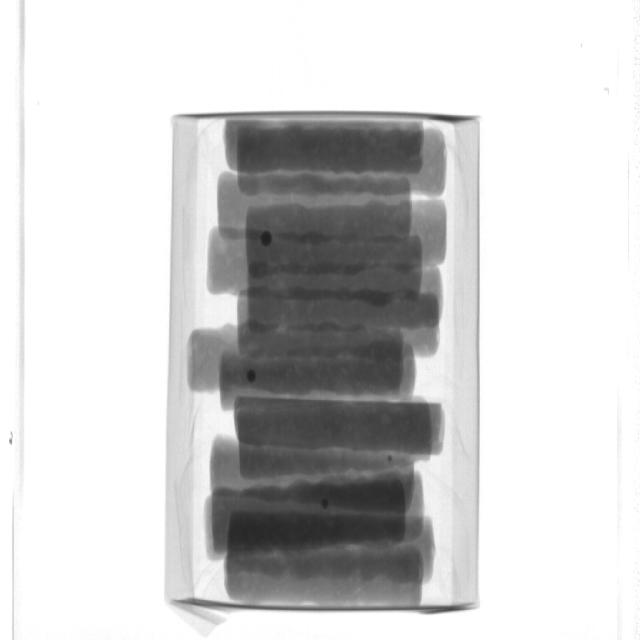ym: (263, 233, 274, 249), (247, 368, 257, 382), (322, 499, 330, 509), (388, 457, 394, 462)
